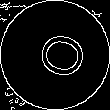O_W: (25, 28, 85, 82)
